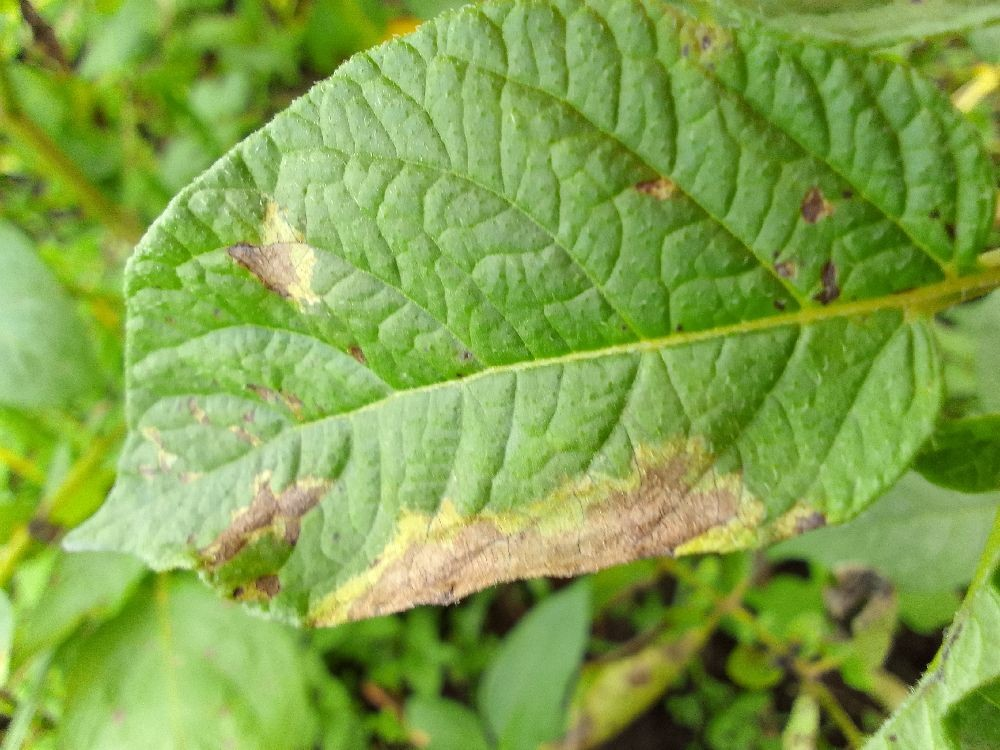late_blight: (398, 424, 843, 639), (185, 466, 342, 585), (869, 611, 954, 705), (816, 559, 903, 649)
